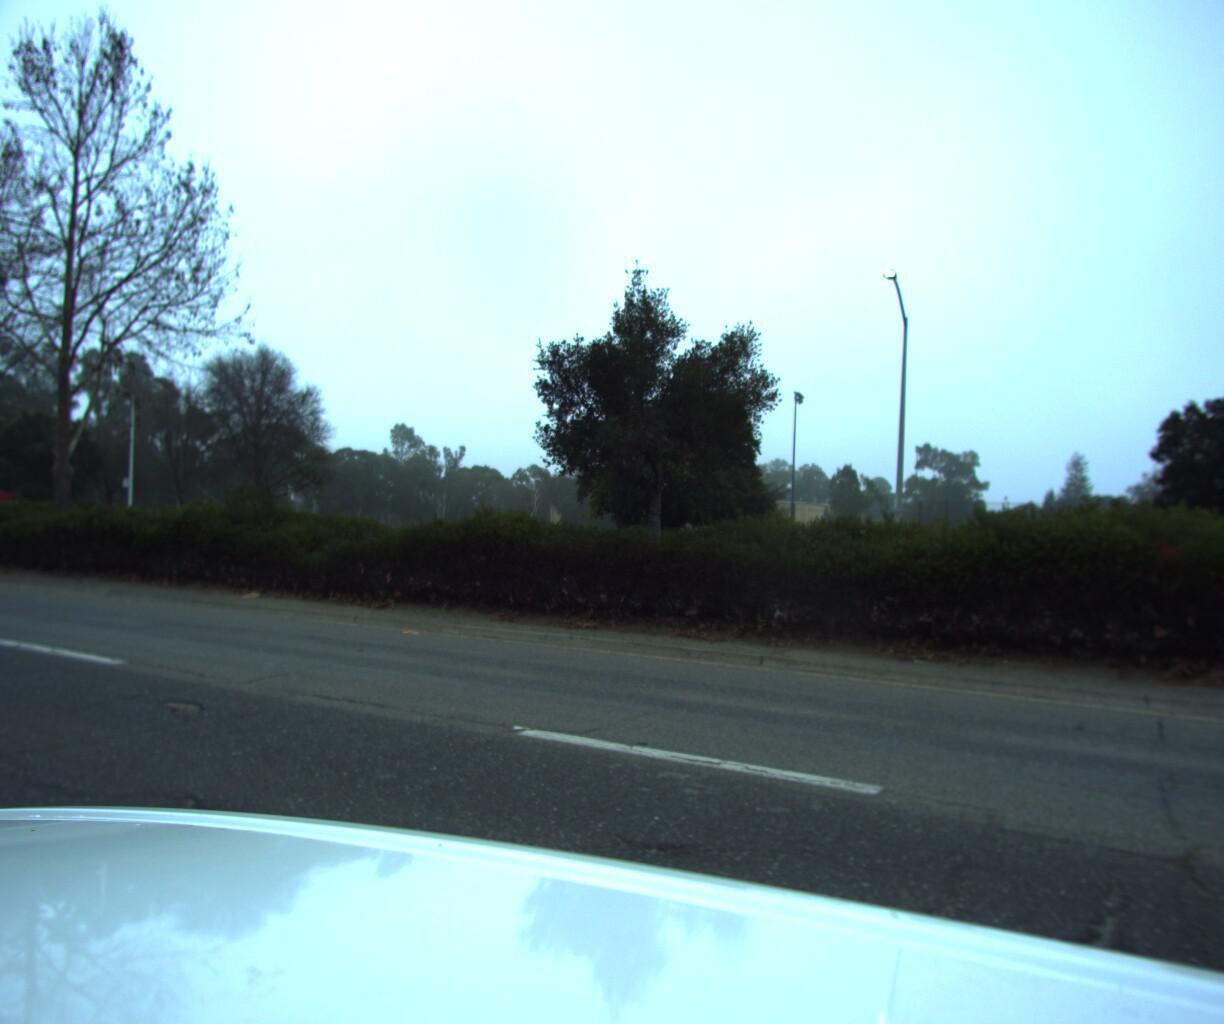emergency_vehicle: (0, 476, 34, 531)
